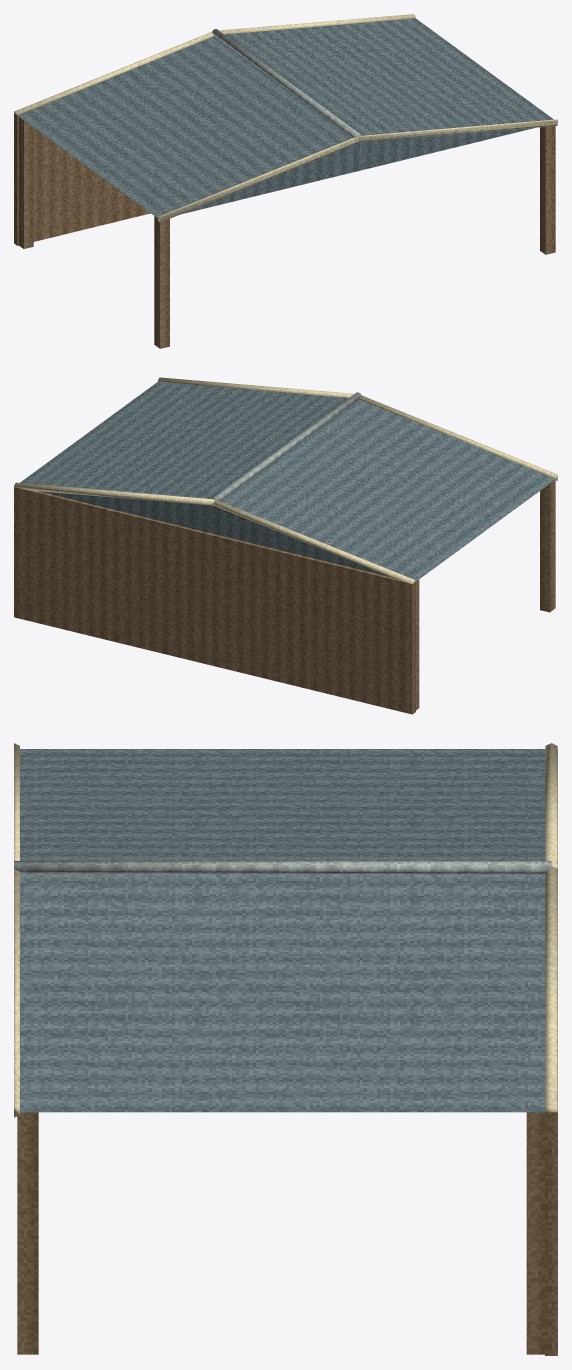
The model's file is shade_shelter.glb.
3 views of the same model, one above another, from view 1: azimuth 30°, elevation 25°; view 2: azimuth 150°, elevation 25°; view 3: azimuth 270°, elevation 25° (orthographic). The views are drawn at different scales.
Parts seen in each view (by area): view 1: parcel_shade_shelter roof, parcel_shade_shelter wood, parcel_shade_shelter cream, parcel_shade_shelter metal; view 2: parcel_shade_shelter roof, parcel_shade_shelter wood, parcel_shade_shelter cream, parcel_shade_shelter metal; view 3: parcel_shade_shelter roof, parcel_shade_shelter wood, parcel_shade_shelter metal, parcel_shade_shelter cream.
Part boxes in pixels (x1,y1,x2,y2): parcel_shade_shelter roof: (17,18,553,218); parcel_shade_shelter wood: (14,113,555,348); parcel_shade_shelter cream: (14,14,557,222); parcel_shade_shelter metal: (212,29,361,138); parcel_shade_shelter roof: (20,381,556,581); parcel_shade_shelter wood: (14,480,555,714); parcel_shade_shelter cream: (14,377,557,583); parcel_shade_shelter metal: (212,392,361,500); parcel_shade_shelter roof: (20,749,545,1112); parcel_shade_shelter wood: (17,749,557,1355); parcel_shade_shelter metal: (14,861,551,873); parcel_shade_shelter cream: (14,743,557,1117).
Size of what is drawn, in the model's own units: 8 by 3.2 by 5.06.
Materials: 4 (4 with a texture image).
